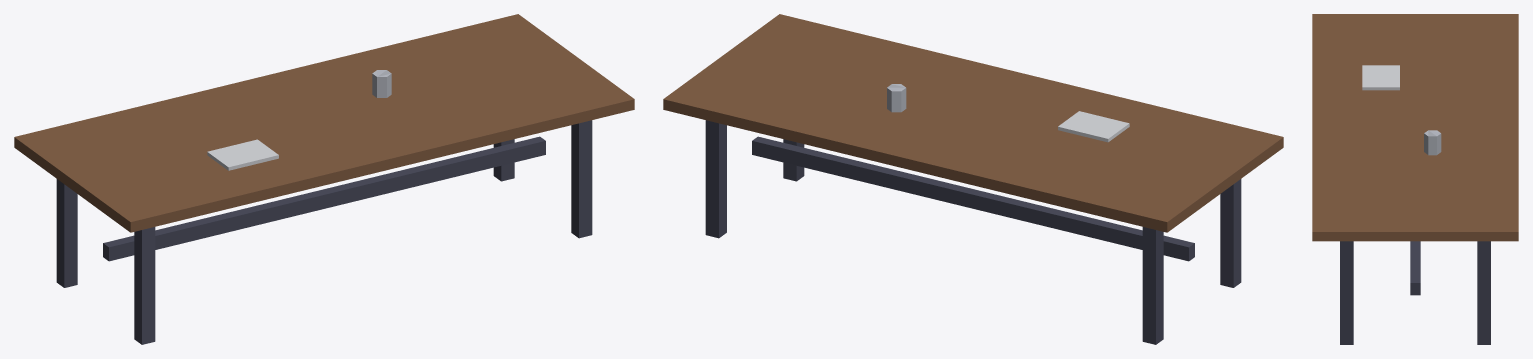
The model's file is Table_Dining.fbx.
The picture shows the model from 3 angles, left to right: view 1: azimuth 30°, elevation 25°; view 2: azimuth 150°, elevation 25°; view 3: azimuth 270°, elevation 25°; orthographic projection. The views are drawn at different scales.
Visible parts, largest first — view 1: Table_Dining; view 2: Table_Dining; view 3: Table_Dining.
Part boxes in pixels (box(x1,y1,x2,y2)): Table_Dining: box(14, 14, 634, 344); Table_Dining: box(663, 14, 1283, 344); Table_Dining: box(1312, 14, 1518, 344).
Bounding box in the file's own units: 3 × 0.92 × 1.2.
